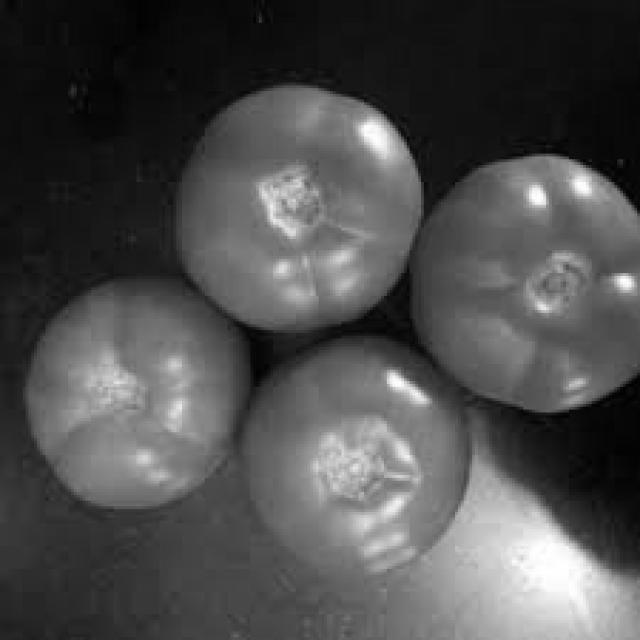Fresh_tomato: (158, 68, 414, 323), (426, 164, 640, 400), (242, 340, 454, 576), (31, 266, 250, 486)
